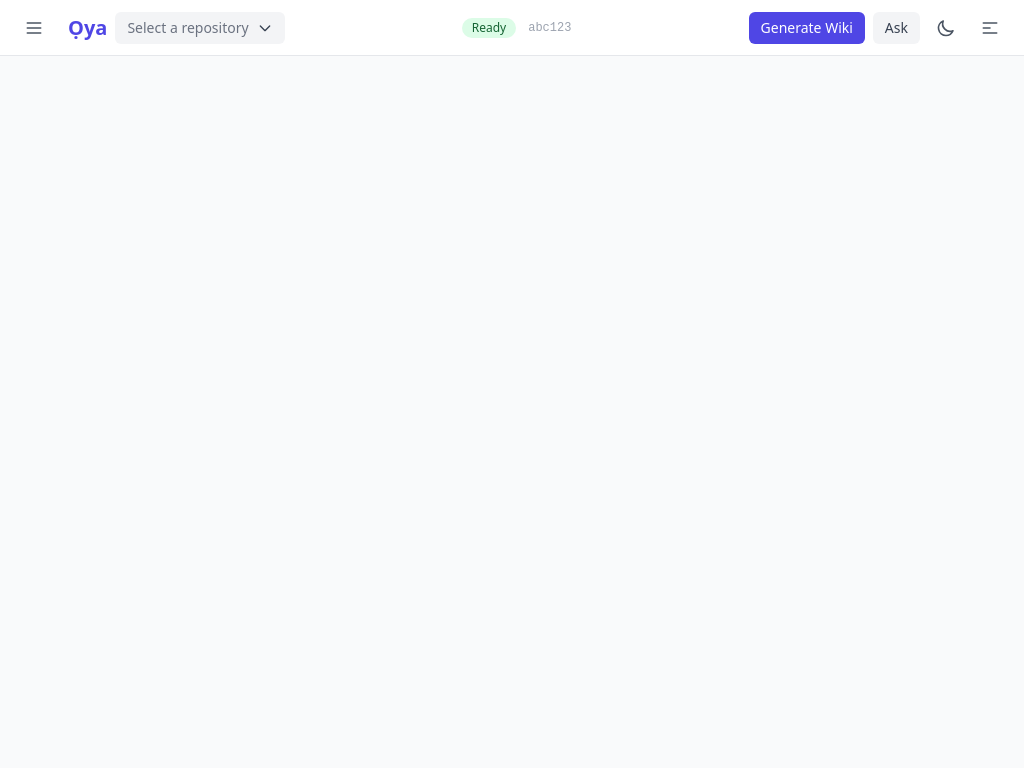
Test case: Generate Wiki Button › opens IndexingPreviewModal when Generate Wiki button is clicked
# Click Generate Wiki button
Click the button "Generate Wiki".
click(807, 28)  # box [748,12,865,44]
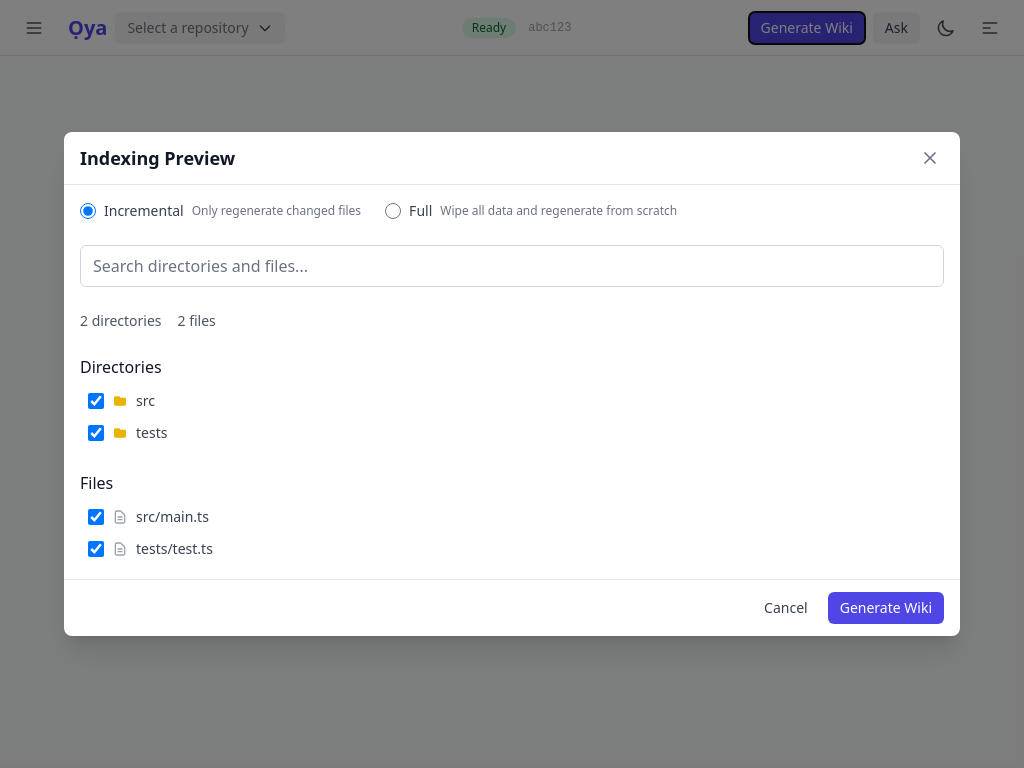
expect the heading "Indexing Preview" is shown: met, box [80,144,235,172]
